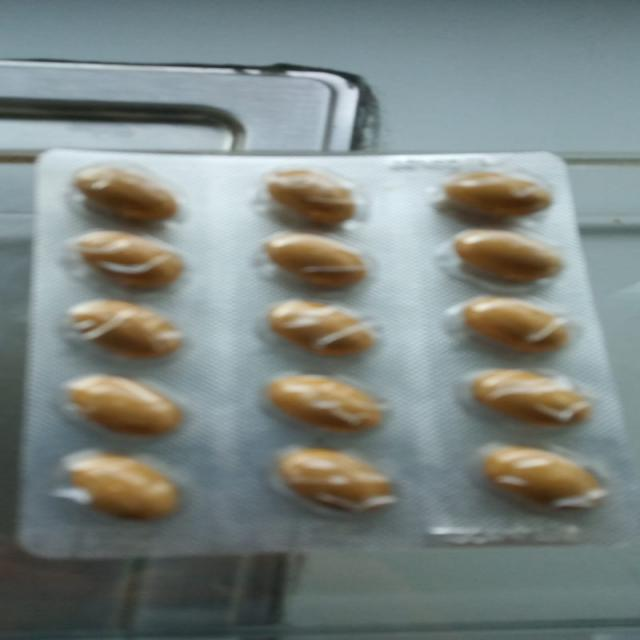Pill: (467, 437, 613, 520), (46, 450, 198, 526), (261, 443, 400, 521), (437, 292, 595, 357), (46, 371, 198, 438), (451, 360, 605, 425), (250, 368, 394, 436), (50, 159, 194, 224), (53, 297, 200, 360), (53, 232, 195, 292), (248, 229, 379, 292), (251, 293, 376, 359), (253, 163, 379, 228), (434, 224, 562, 287), (432, 165, 563, 223)
